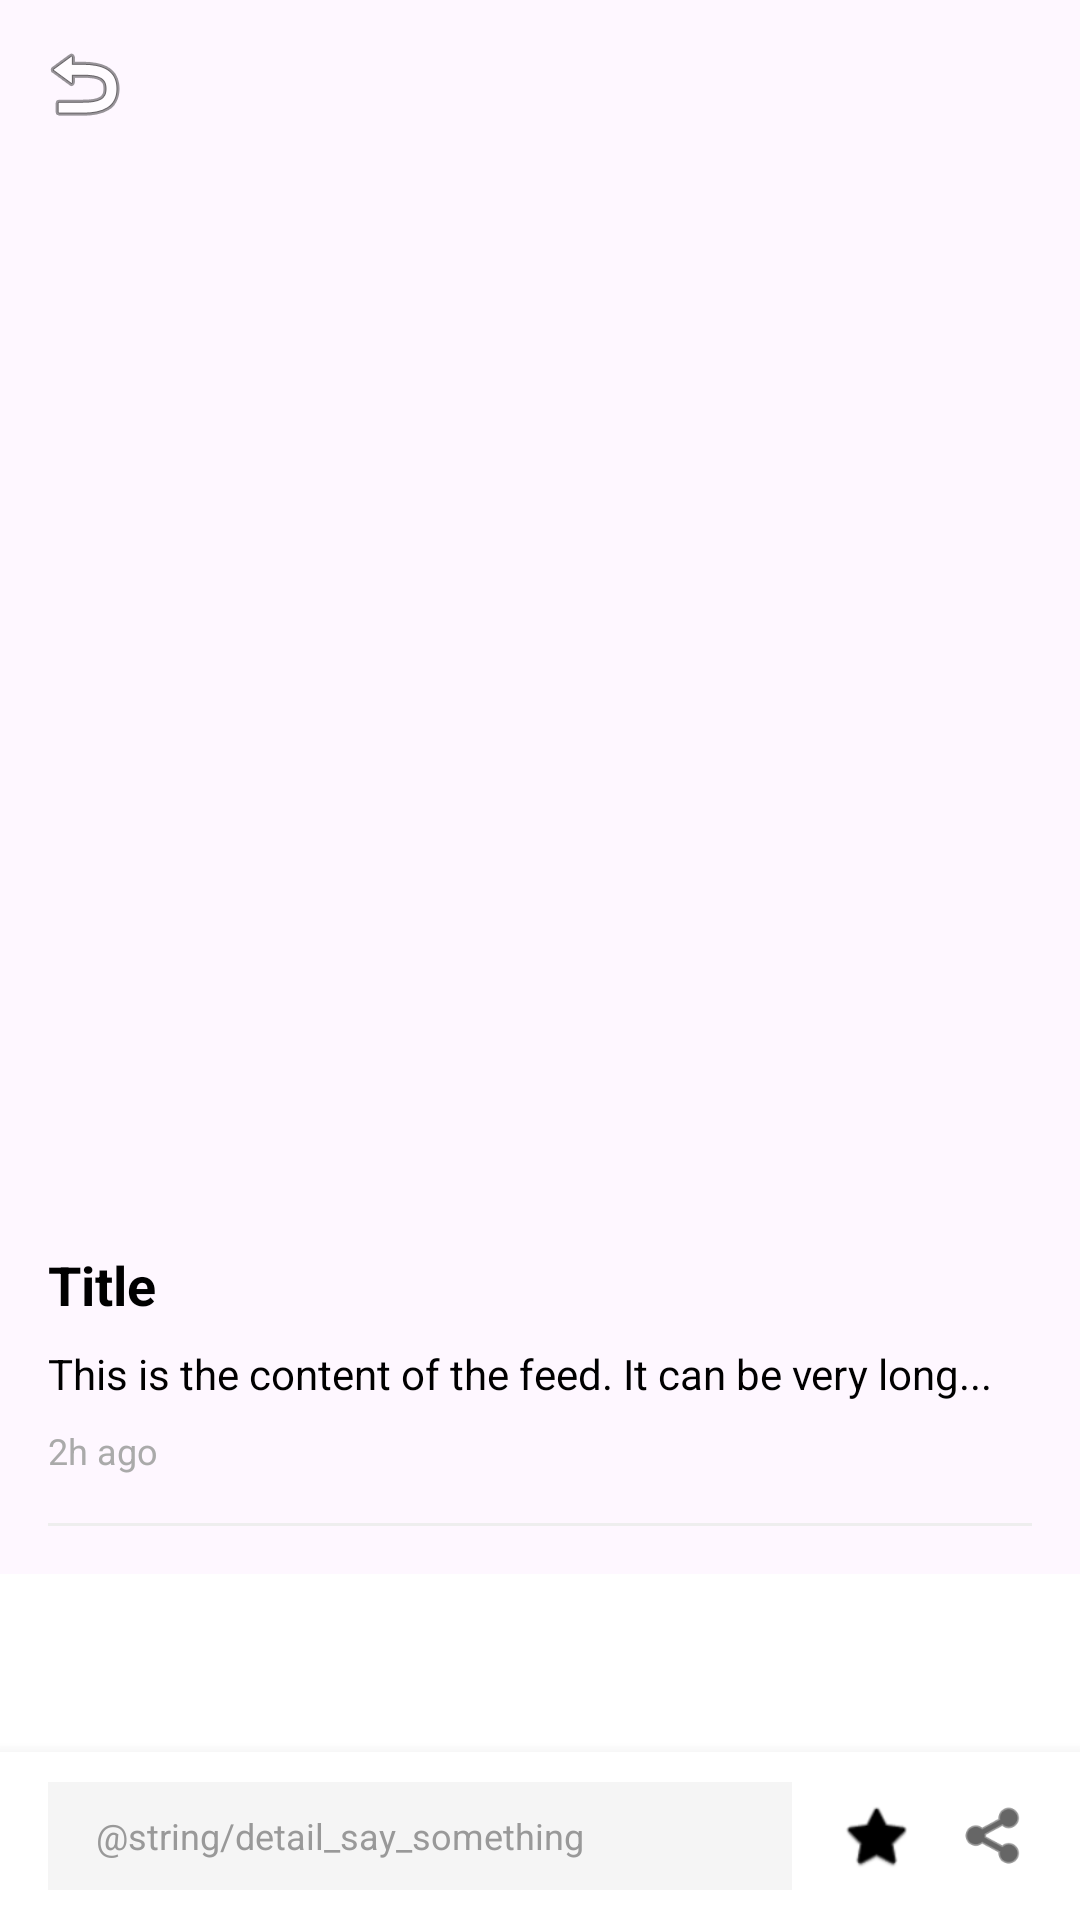

Point at icon controls on the screen. Image size 1080 × 1920, points as point (x, y).
share: point (992, 1835)
star: point (876, 1836)
